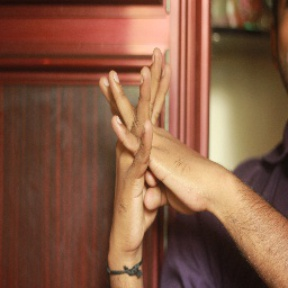W: (88, 46, 199, 227)
